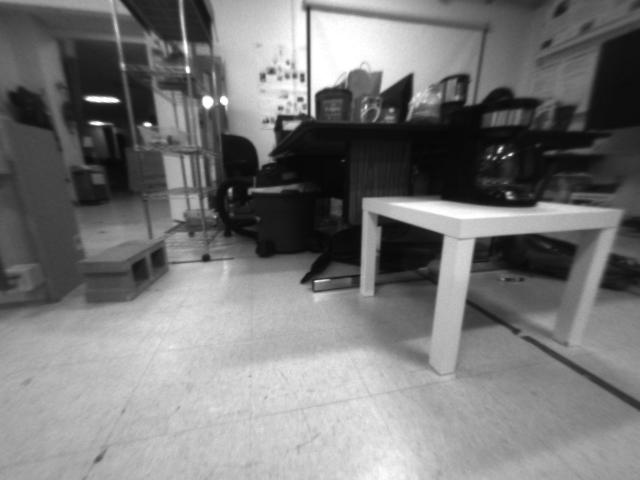coffee_pot: (449, 96, 544, 209)
